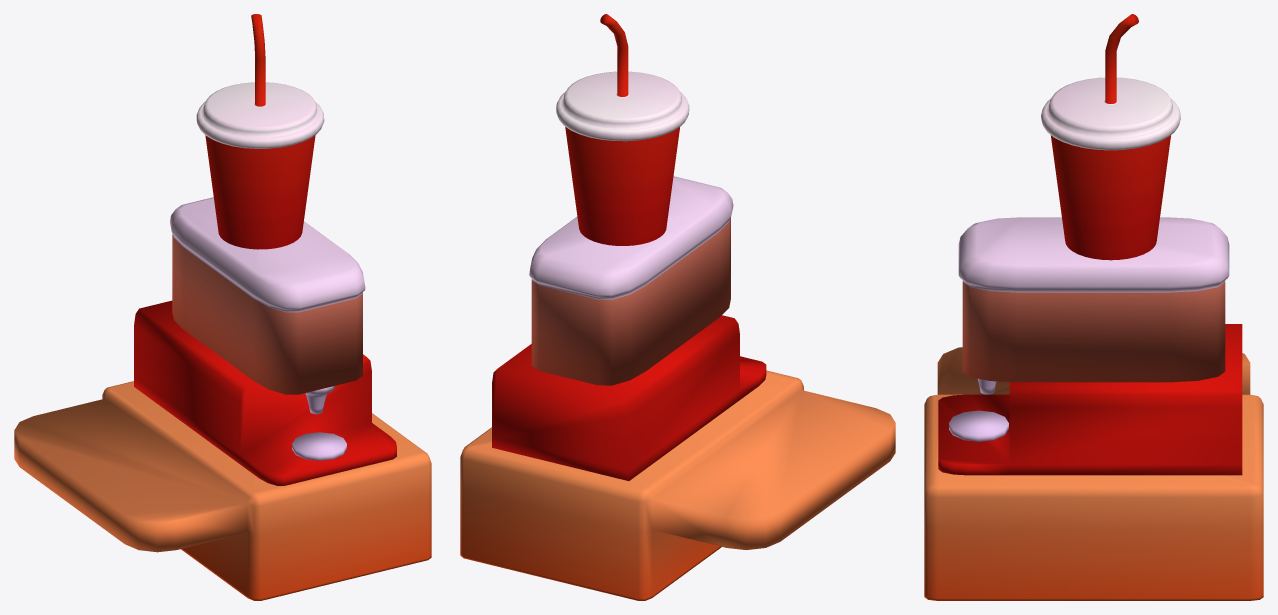
The model's file is Cola-Machine.fbx.
3 views of the same model, side by side, from view 1: azimuth 30°, elevation 25°; view 2: azimuth 150°, elevation 25°; view 3: azimuth 270°, elevation 25° (orthographic). The views are drawn at different scales.
Visible parts, largest first — view 1: Cola-Machine; view 2: Cola-Machine; view 3: Cola-Machine.
Part boxes in pixels (x1,y1,x2,y2): Cola-Machine: [14, 14, 431, 600]; Cola-Machine: [460, 14, 895, 600]; Cola-Machine: [924, 14, 1263, 600].
Size of the model in its own units: 300 by 497 by 282.
